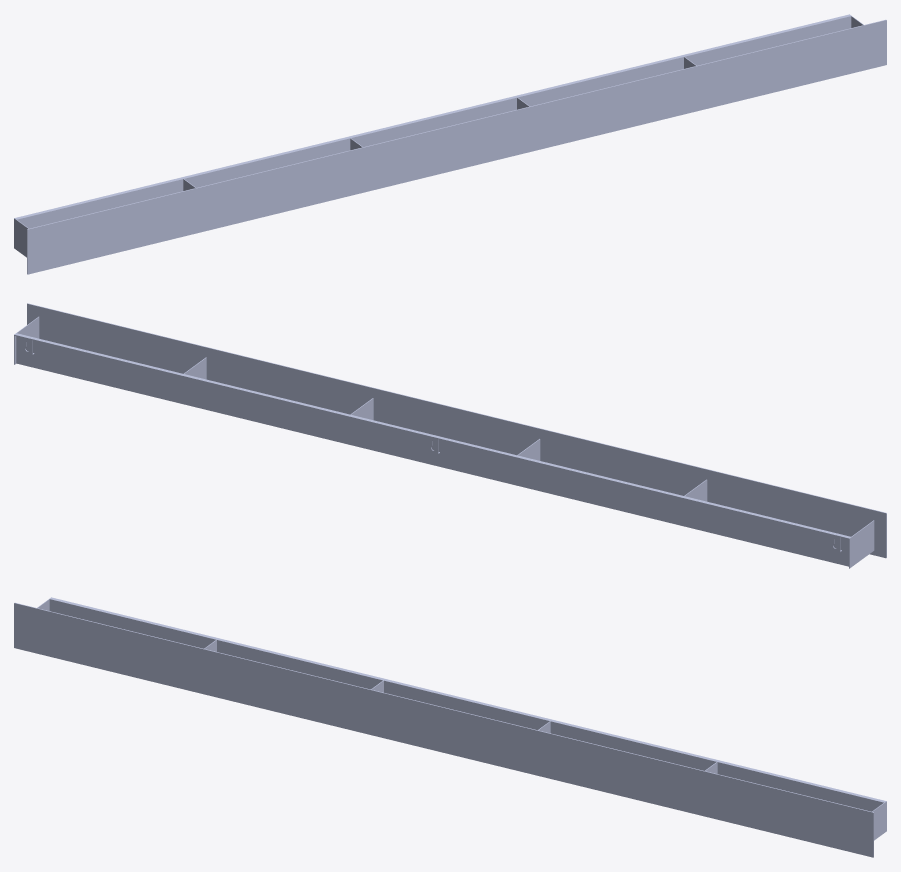
The model's file is skyline-mono.8ec924c321.glb.
The picture shows the model from 3 angles, top to bottom: view 1: azimuth 30°, elevation 25°; view 2: azimuth 150°, elevation 25°; view 3: azimuth 330°, elevation 25°; orthographic projection.
Parts seen in each view (by area): view 1: NAUO1; view 2: NAUO1; view 3: NAUO1.
Boxes of the visible parts, left/top/right/bottom form: NAUO1: left=14, top=14, right=886, bottom=274; NAUO1: left=14, top=303, right=886, bottom=568; NAUO1: left=14, top=597, right=886, bottom=857.
Size of the model in its own units: 1.8 by 0.0901 by 0.0921.
